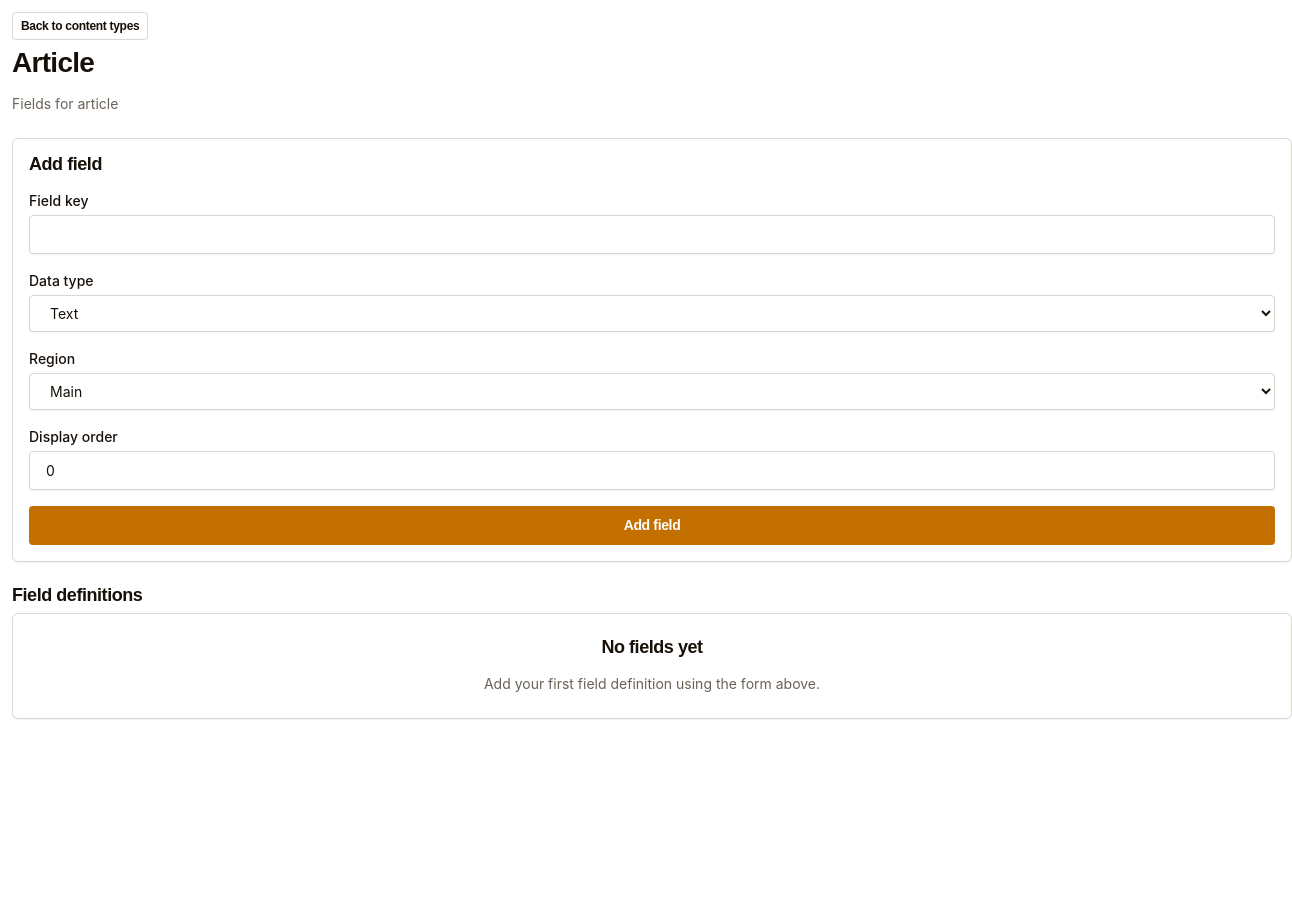
FieldDefsPage › creates a field definition and lists it
Check: the heading "Article" is shown, box 12,48 -> 94,77
Check: the heading "No fields yet" is shown, box 601,638 -> 703,657
Type "title" into the field labelled "Field key".
click(652, 235); type("title")  # box 29,215 -> 1275,254
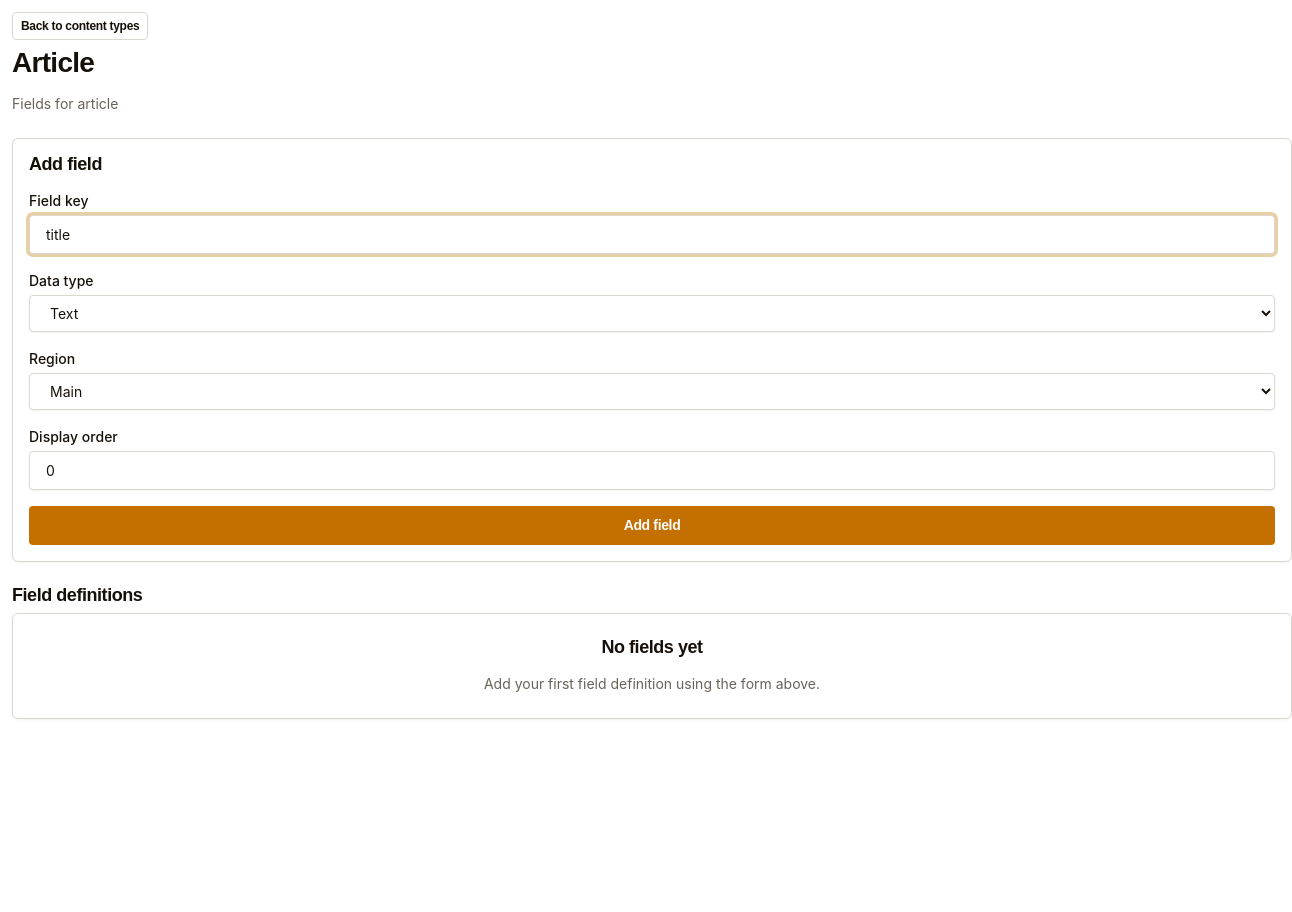
Click the button "Add field".
click(652, 526)  # box 29,506 -> 1275,545
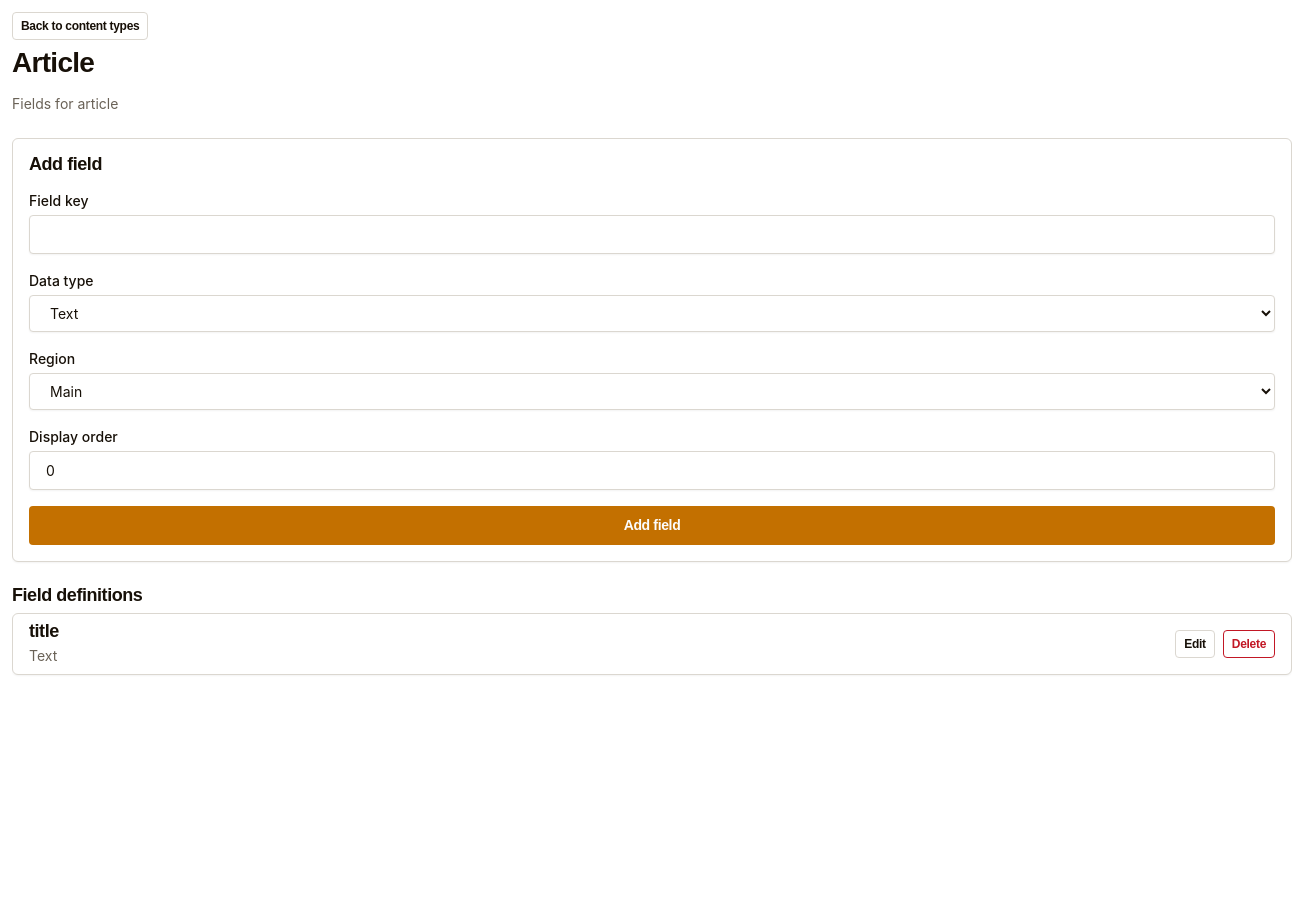
Check: the text "title" is shown, box 29,622 -> 59,641
